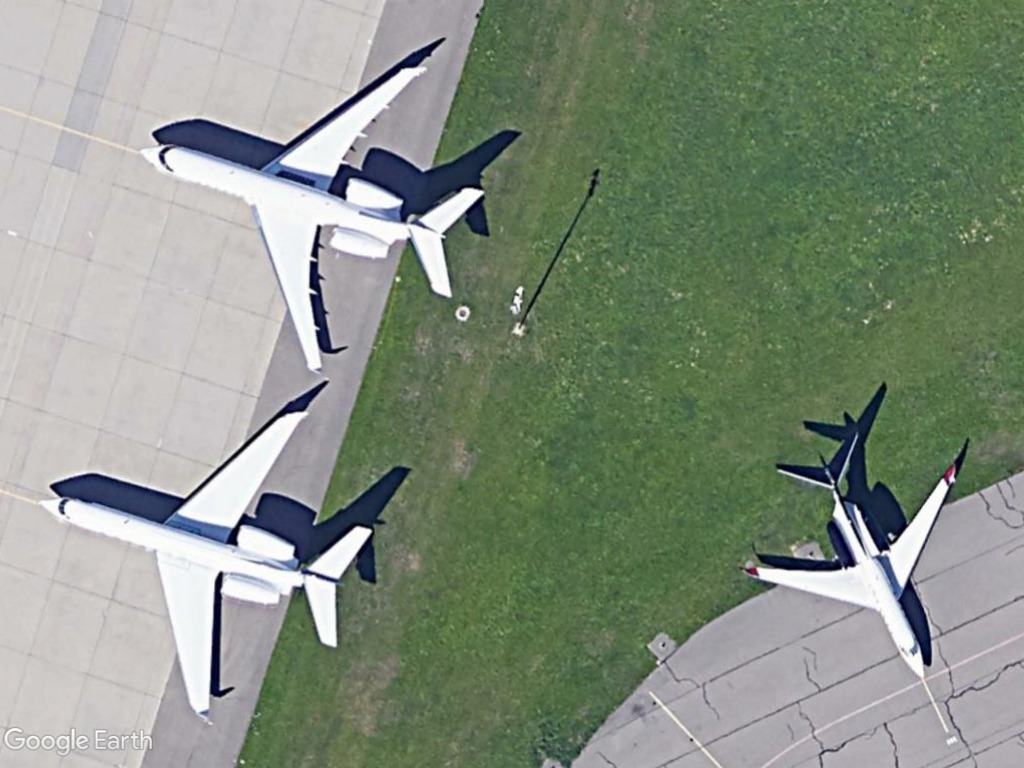chartered: (28, 392, 378, 730), (130, 54, 493, 378), (742, 430, 965, 685)
